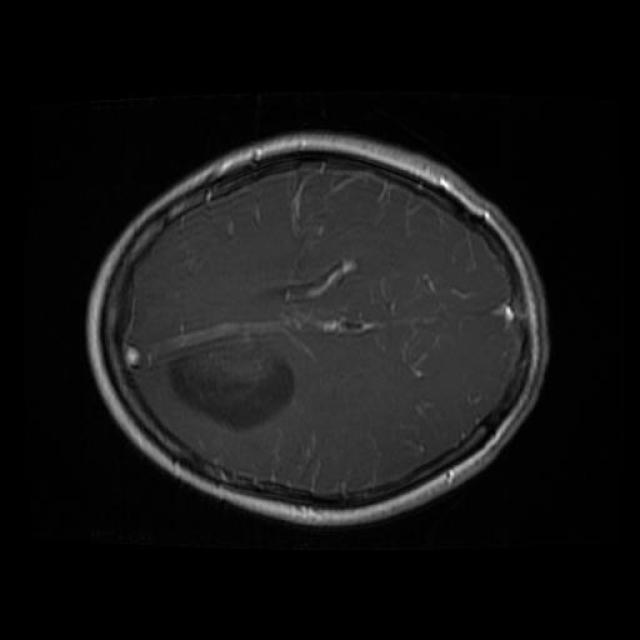Glioma: (170, 339, 294, 430)
